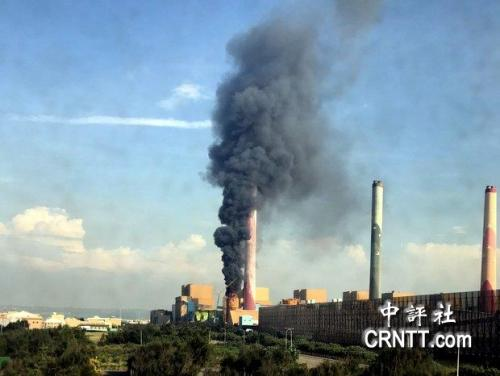smoke: (201, 18, 325, 294)
